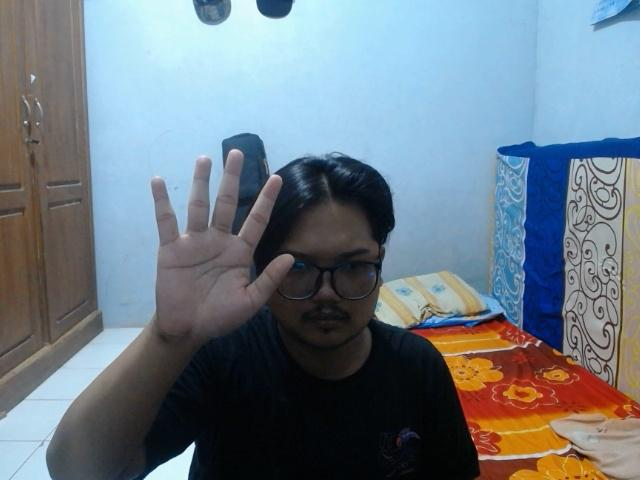Release: (147, 142, 297, 351)
